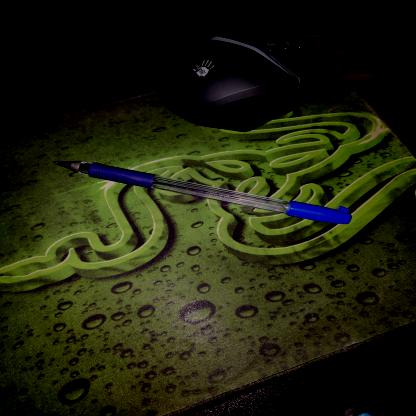pen: (52, 154, 354, 231)
